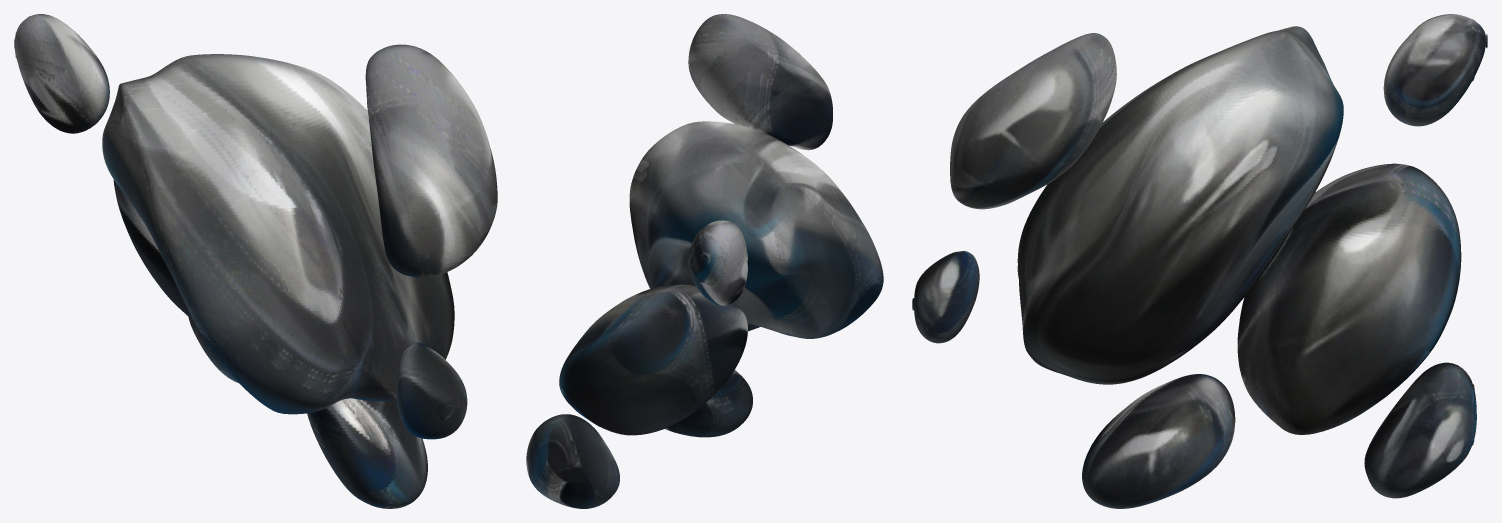
Rendered from metallic_snow.glb.
The picture shows the model from 3 angles, left to right: view 1: azimuth 30°, elevation 25°; view 2: azimuth 150°, elevation 25°; view 3: azimuth 270°, elevation 25°; orthographic projection. The views are drawn at different scales.
Bounding box in the file's own units: 1.02 × 1.79 × 2.01.
1 material, 1 textured.
